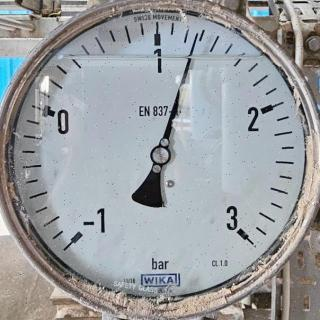gauge: (0, 0, 320, 320), (57, 206, 107, 260), (223, 212, 257, 250), (149, 145, 171, 166), (191, 28, 203, 44)
